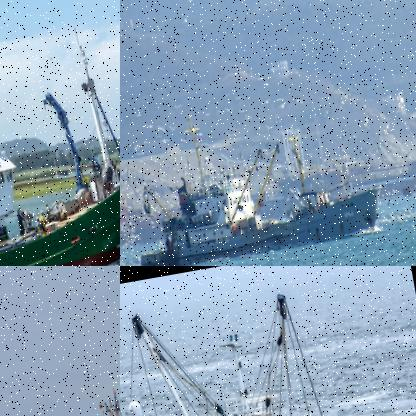Fishing Boat: (120, 85, 390, 265), (120, 281, 377, 415), (0, 0, 119, 265)
Merchant Ship: (0, 358, 119, 415)
